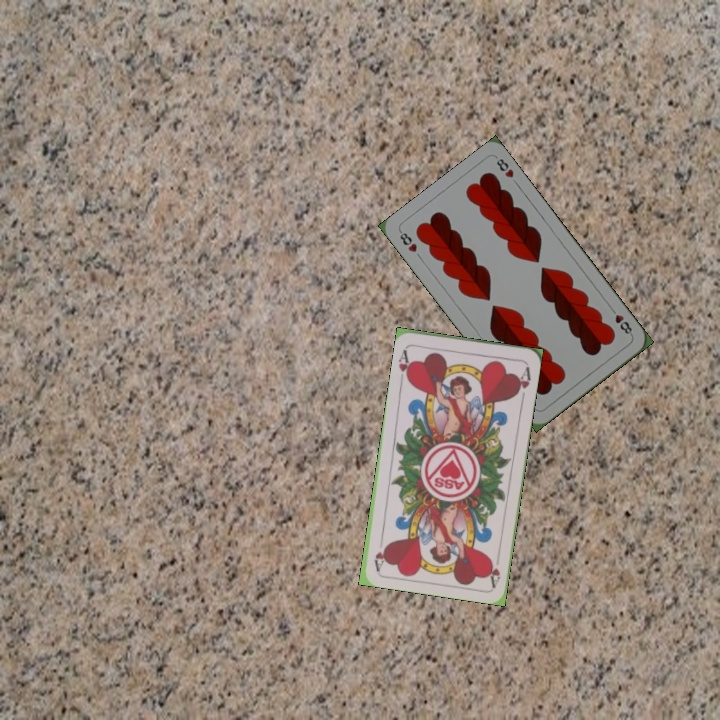H8: (606, 303, 635, 338), (395, 227, 420, 255)
HA: (395, 343, 415, 385), (485, 548, 503, 588)
